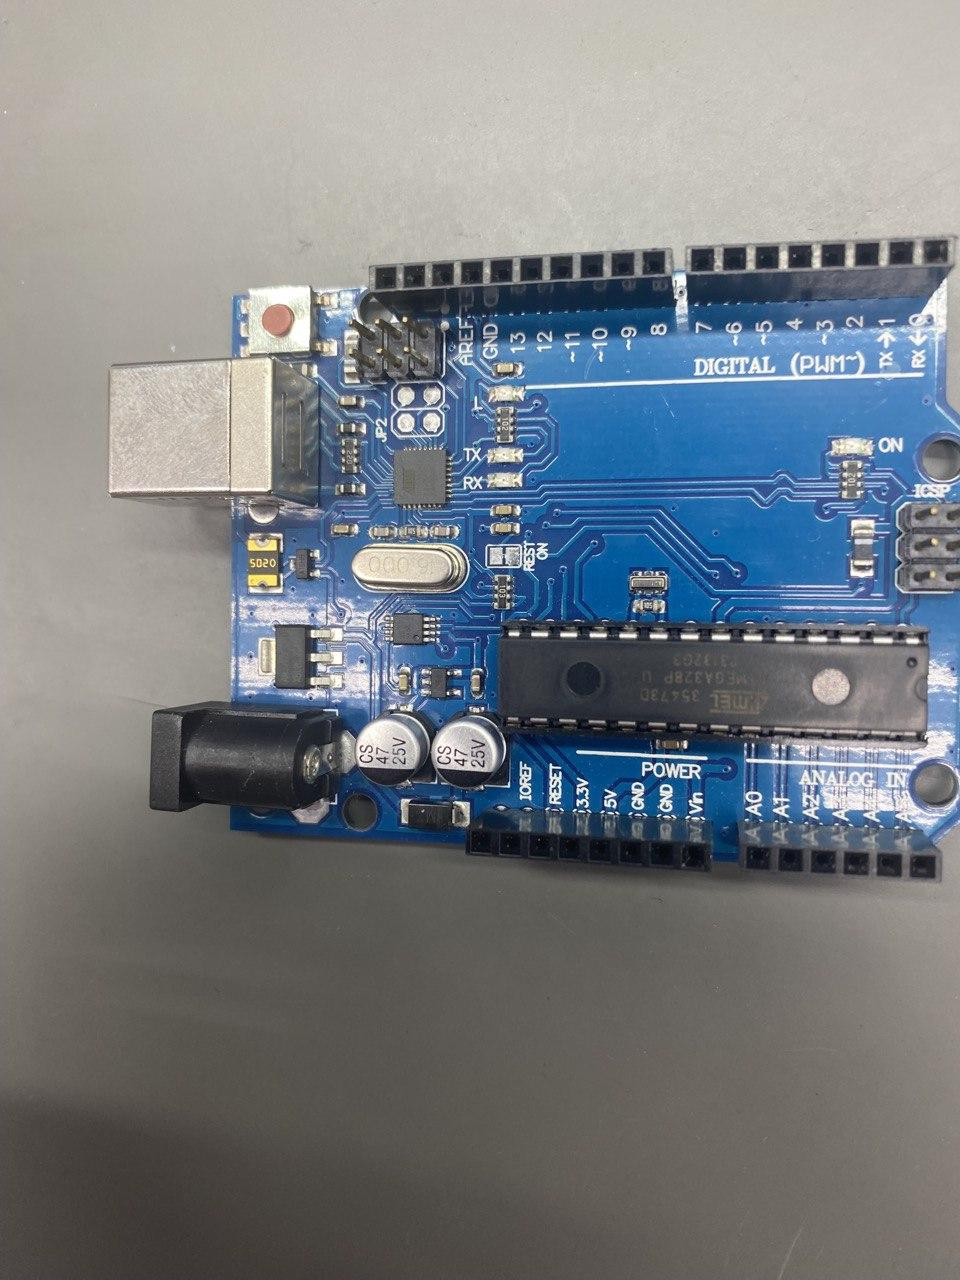ATmega328 chip: (497, 618, 931, 750)
Arduino board: (106, 234, 959, 884)
USB: (107, 355, 320, 509)
capacitor: (355, 707, 437, 788), (429, 710, 510, 790)
pins: (369, 247, 674, 322), (686, 235, 954, 304), (466, 807, 712, 872), (738, 822, 943, 884)
resistor: (840, 460, 862, 498), (495, 407, 517, 443), (341, 439, 361, 474), (493, 575, 512, 609)
